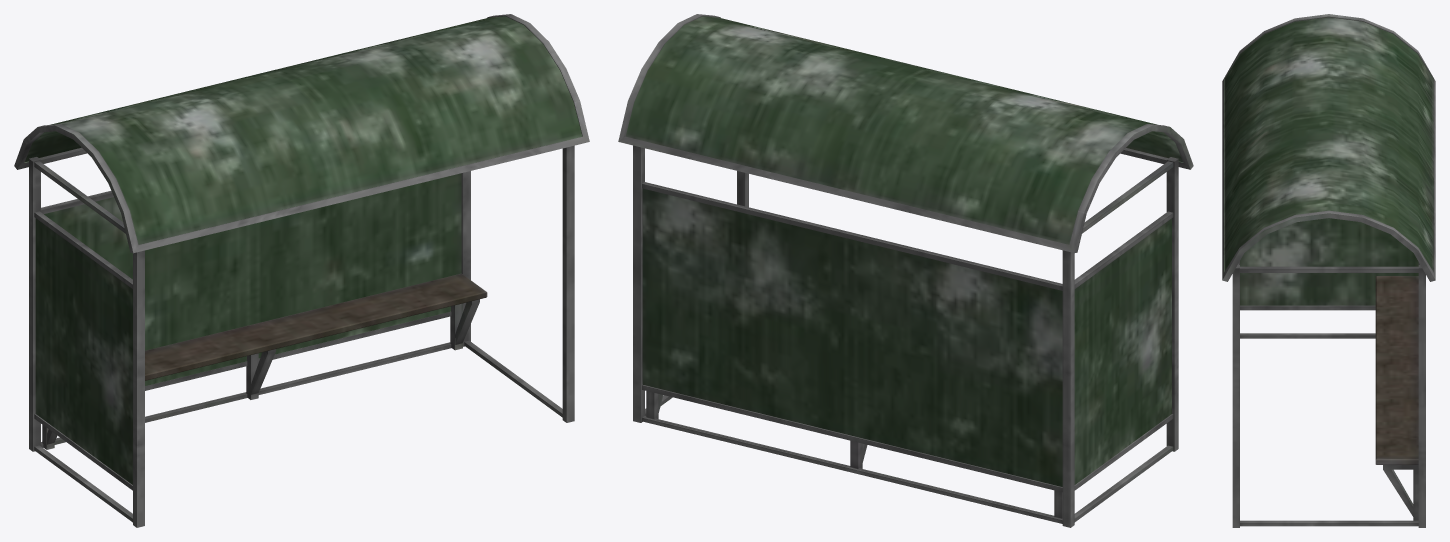
File: busstop.glb
3 views of the same model, side by side, from view 1: azimuth 30°, elevation 25°; view 2: azimuth 150°, elevation 25°; view 3: azimuth 270°, elevation 25° (orthographic). The views are drawn at different scales.
Parts seen in each view (by area): view 1: Bus_Stop; view 2: Bus_Stop; view 3: Bus_Stop.
Boxes of the visible parts, x1,y1,x2,y2 form: Bus_Stop: (14, 14, 589, 527); Bus_Stop: (618, 14, 1193, 527); Bus_Stop: (1222, 14, 1435, 527).
Bounding box in the file's own units: 5.31 × 3.96 × 2.4.
1 material, 1 textured.
